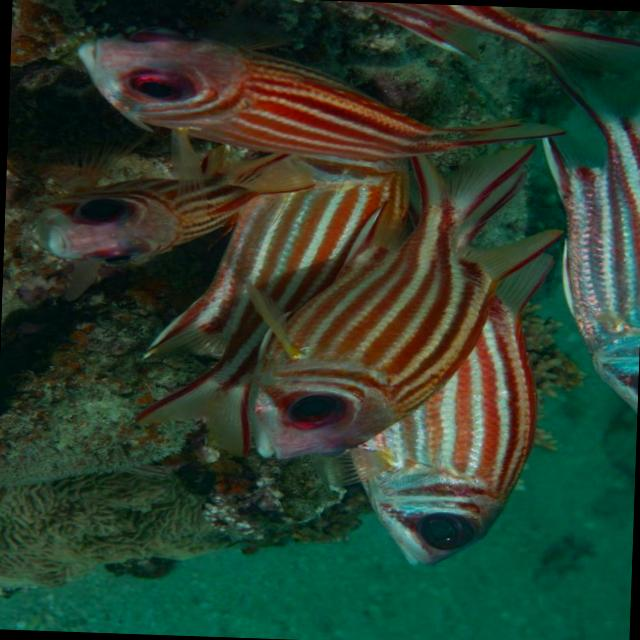Asker Baligi: (238, 187, 500, 492), (70, 23, 572, 170)
